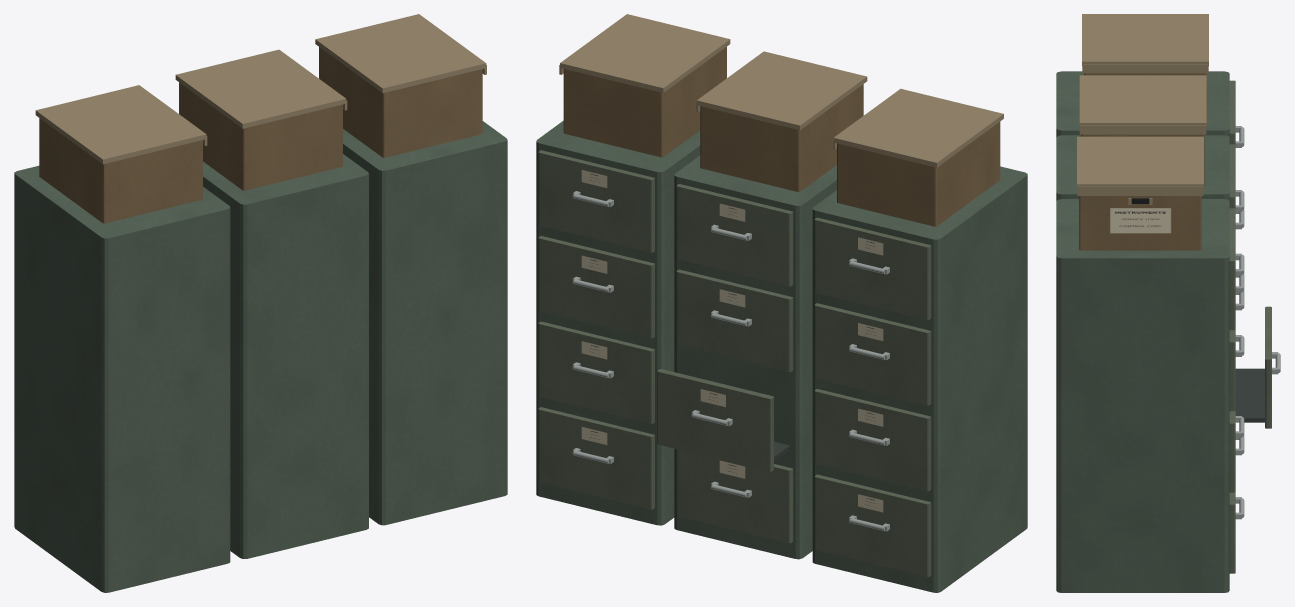
The model's file is SM_ArchiveProps_FilingCabinets_LOD1.glb.
3 views of the same model, side by side, from view 1: azimuth 30°, elevation 25°; view 2: azimuth 150°, elevation 25°; view 3: azimuth 270°, elevation 25° (orthographic). The views are drawn at different scales.
Parts seen in each view (by area): view 1: SM_ArchiveProps_FilingCabinets_LOD1; view 2: SM_ArchiveProps_FilingCabinets_LOD1; view 3: SM_ArchiveProps_FilingCabinets_LOD1.
Boxes of the visible parts, box(x1,y1,x2,y2) form: SM_ArchiveProps_FilingCabinets_LOD1: box(14, 14, 507, 592); SM_ArchiveProps_FilingCabinets_LOD1: box(536, 14, 1027, 592); SM_ArchiveProps_FilingCabinets_LOD1: box(1056, 14, 1280, 592).
Bounding box in the file's own units: 1.58 × 1.59 × 0.802.
8 materials, 4 textured.
